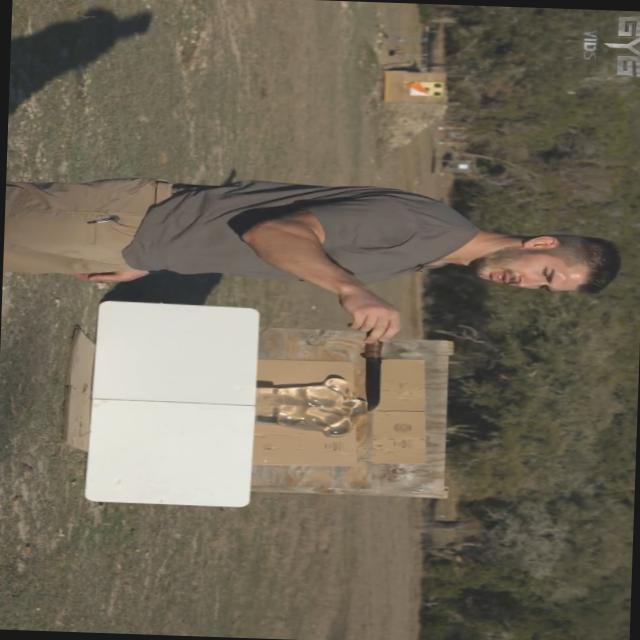knife: (342, 303, 404, 417)
